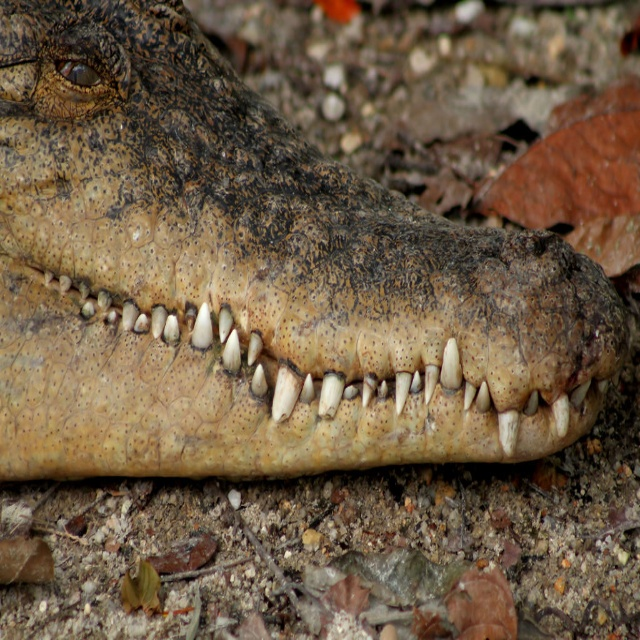Crocodile: (0, 0, 630, 482)
